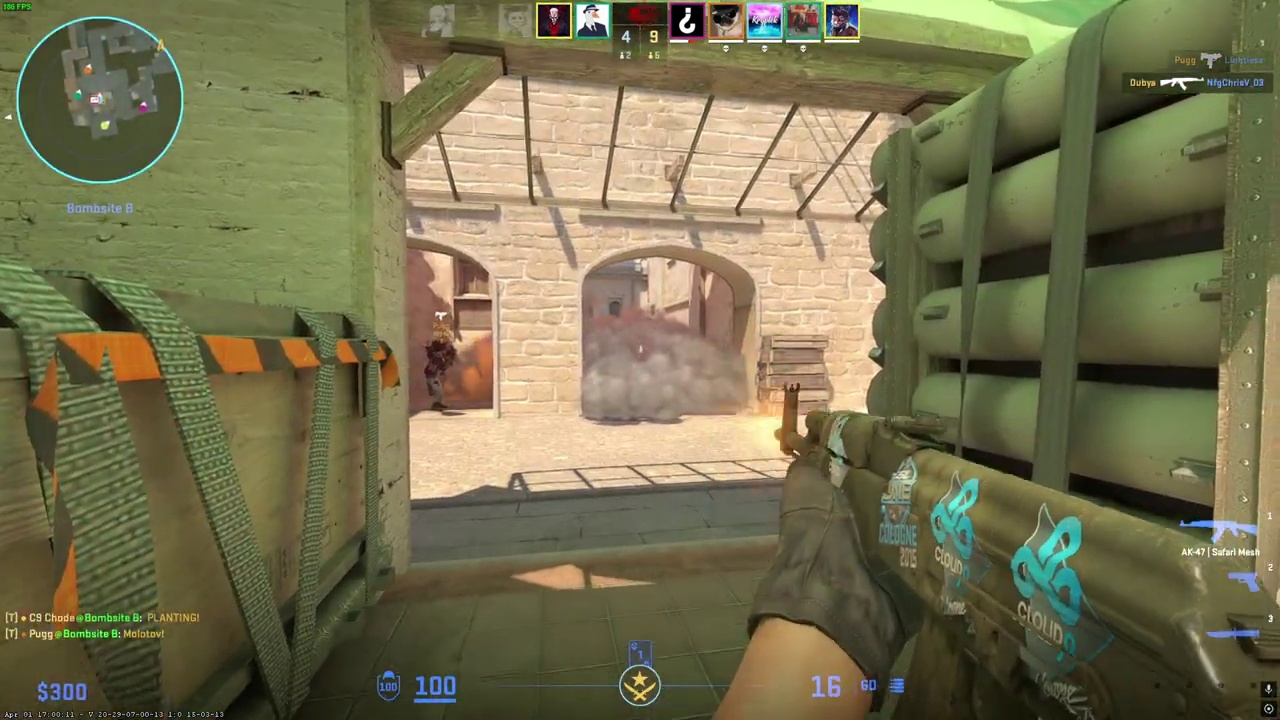Terrorist: (424, 345, 448, 412)
